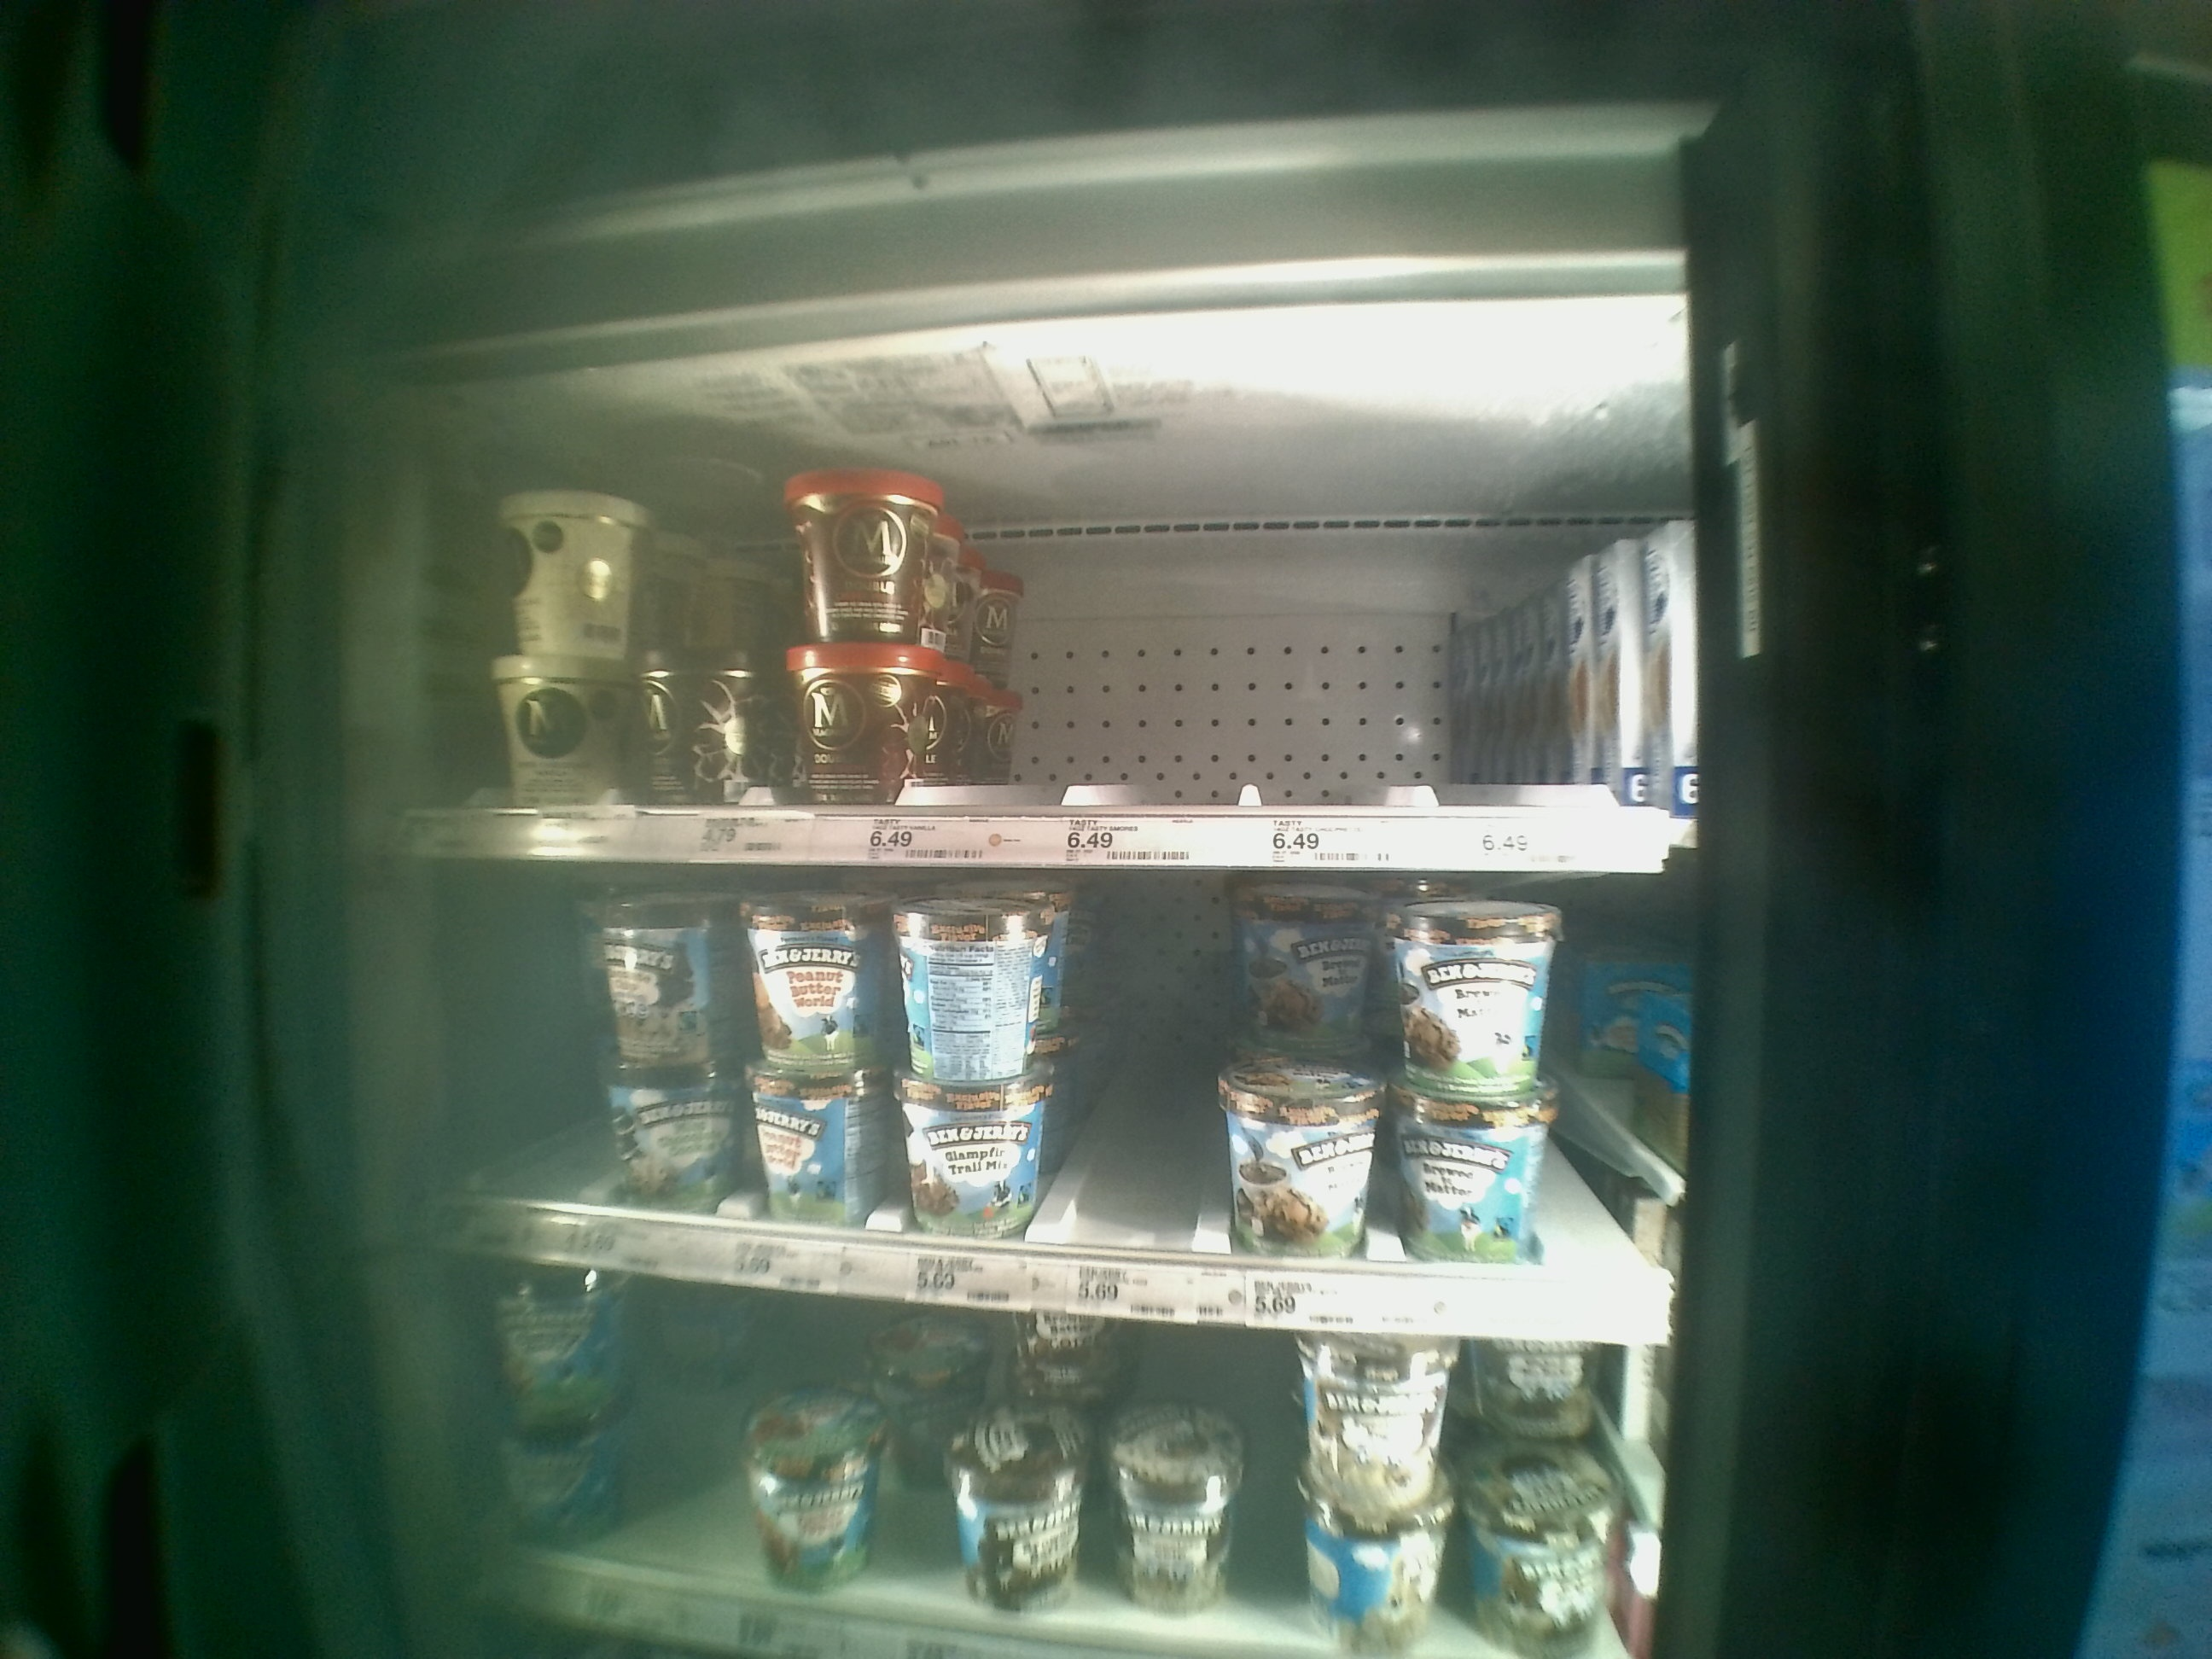ice-cream-shelf: (406, 864, 1689, 1349), (404, 408, 1696, 859)
